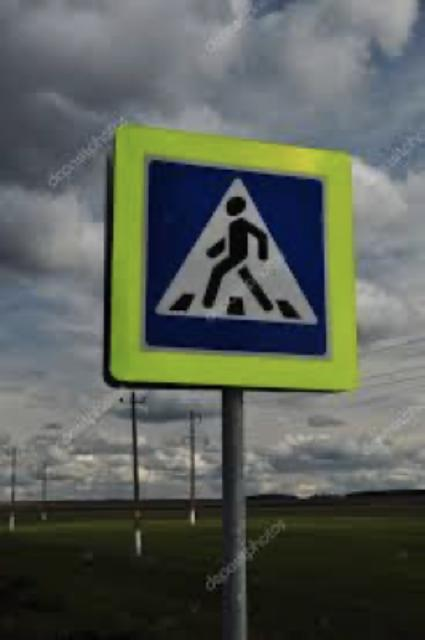crosswalk-sign: (104, 121, 361, 393)
